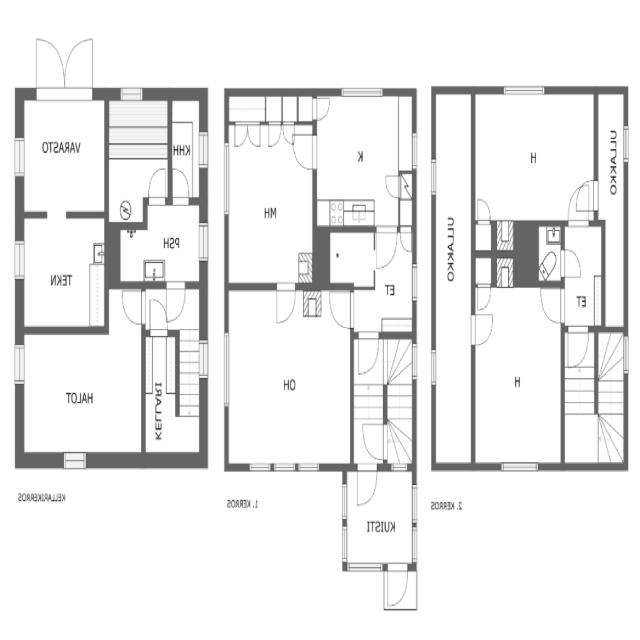door: (60, 35, 97, 98), (33, 35, 68, 98), (565, 176, 597, 224), (384, 558, 410, 610), (327, 286, 356, 332), (360, 419, 388, 464), (565, 323, 591, 371), (356, 329, 381, 378), (372, 225, 398, 272), (537, 282, 566, 324), (120, 286, 148, 328), (292, 128, 318, 173), (274, 281, 298, 328), (355, 462, 379, 509), (165, 280, 188, 325), (470, 310, 496, 347), (146, 163, 168, 206), (560, 244, 584, 281), (146, 295, 168, 335), (233, 120, 262, 150), (171, 165, 191, 206), (268, 117, 290, 151), (382, 170, 402, 202), (312, 93, 332, 124), (474, 282, 493, 313), (475, 194, 493, 226), (398, 226, 414, 255)
window: (174, 98, 207, 199), (409, 478, 420, 566), (498, 458, 542, 478), (276, 458, 322, 477), (500, 81, 548, 99), (222, 136, 232, 221), (338, 83, 386, 100), (222, 331, 232, 406), (12, 234, 26, 286), (344, 558, 384, 576), (12, 339, 26, 390), (60, 448, 91, 471), (12, 134, 26, 184), (117, 84, 146, 103), (198, 125, 209, 173), (198, 336, 209, 384), (198, 219, 209, 266), (429, 153, 439, 200), (620, 333, 630, 379), (340, 480, 350, 525), (246, 460, 276, 475), (340, 523, 350, 567), (409, 524, 419, 566), (410, 261, 419, 305), (622, 123, 631, 166), (410, 130, 419, 173), (410, 340, 419, 383), (429, 346, 438, 388), (388, 460, 410, 476)
zone: (226, 286, 353, 468), (473, 278, 563, 469), (228, 92, 315, 286), (472, 92, 596, 225), (18, 330, 145, 458), (434, 89, 474, 463), (314, 93, 411, 228), (19, 95, 107, 215), (20, 215, 106, 331), (106, 95, 169, 219), (117, 203, 203, 286), (143, 329, 196, 457), (566, 223, 602, 330), (316, 229, 376, 287), (171, 97, 198, 203), (532, 224, 564, 283)
